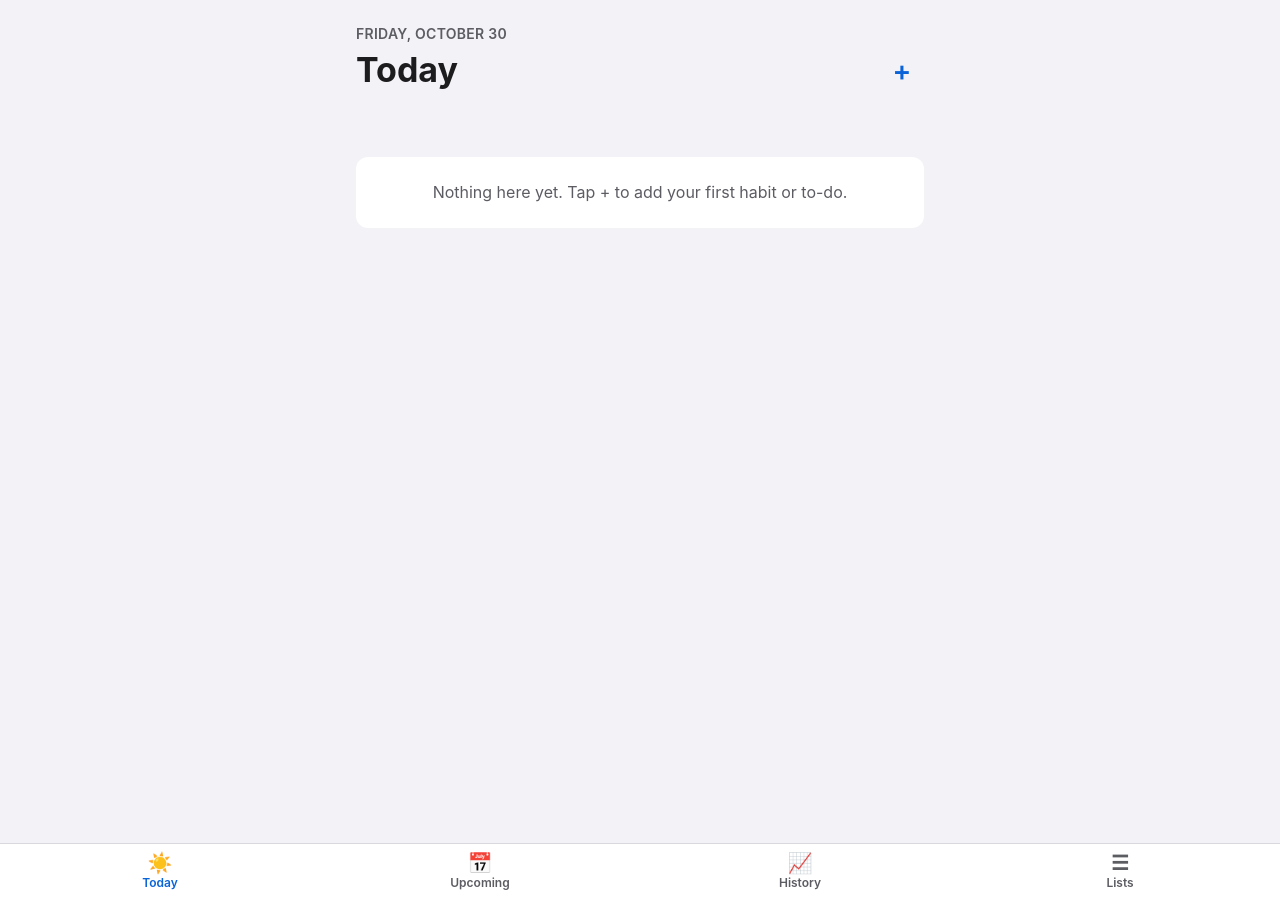
Test: adding and editing notes › adds a to-do with a note from the + sheet
expect the text "Nothing here yet. Tap + to add your first habit or to-do." is shown: met, box [433,182,847,202]
Click the button named "Add" at [902, 71], box [880,49,924,93]
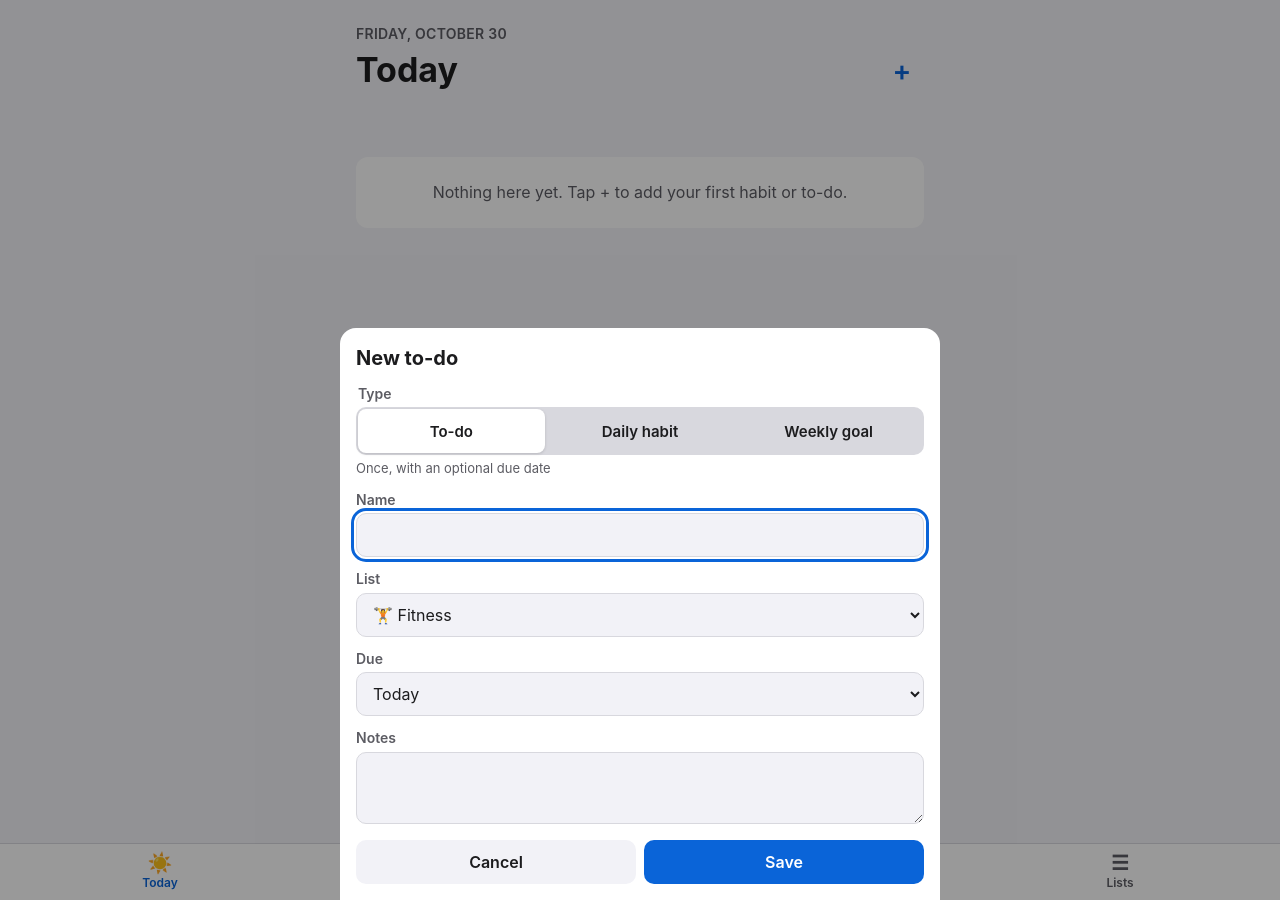
Type "Buy paint" into the field labelled "Name" at [640, 535], box [356,513,924,557]
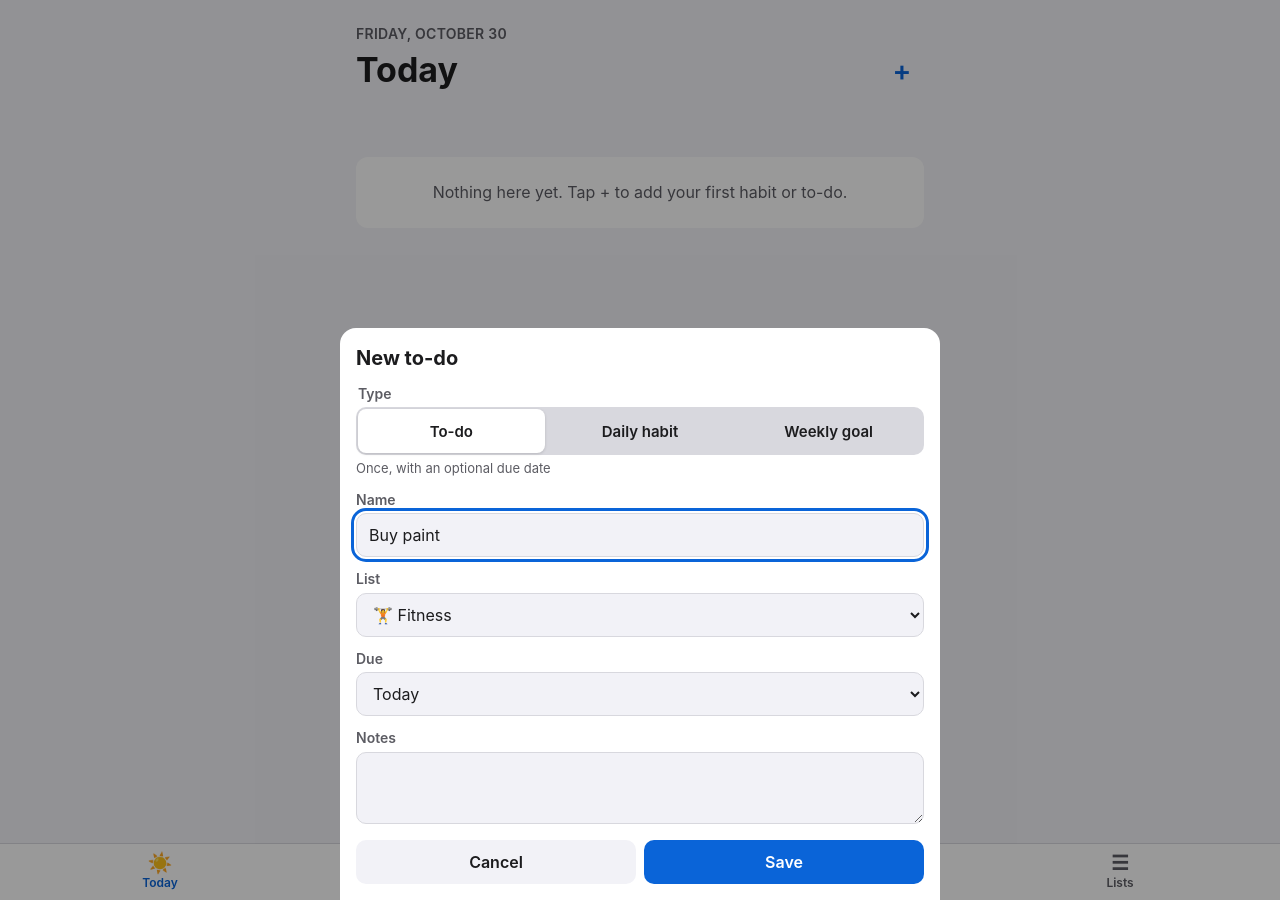
Type "the blue one by the door" into the text box labelled "Notes" at [640, 788], box [356,752,924,824]
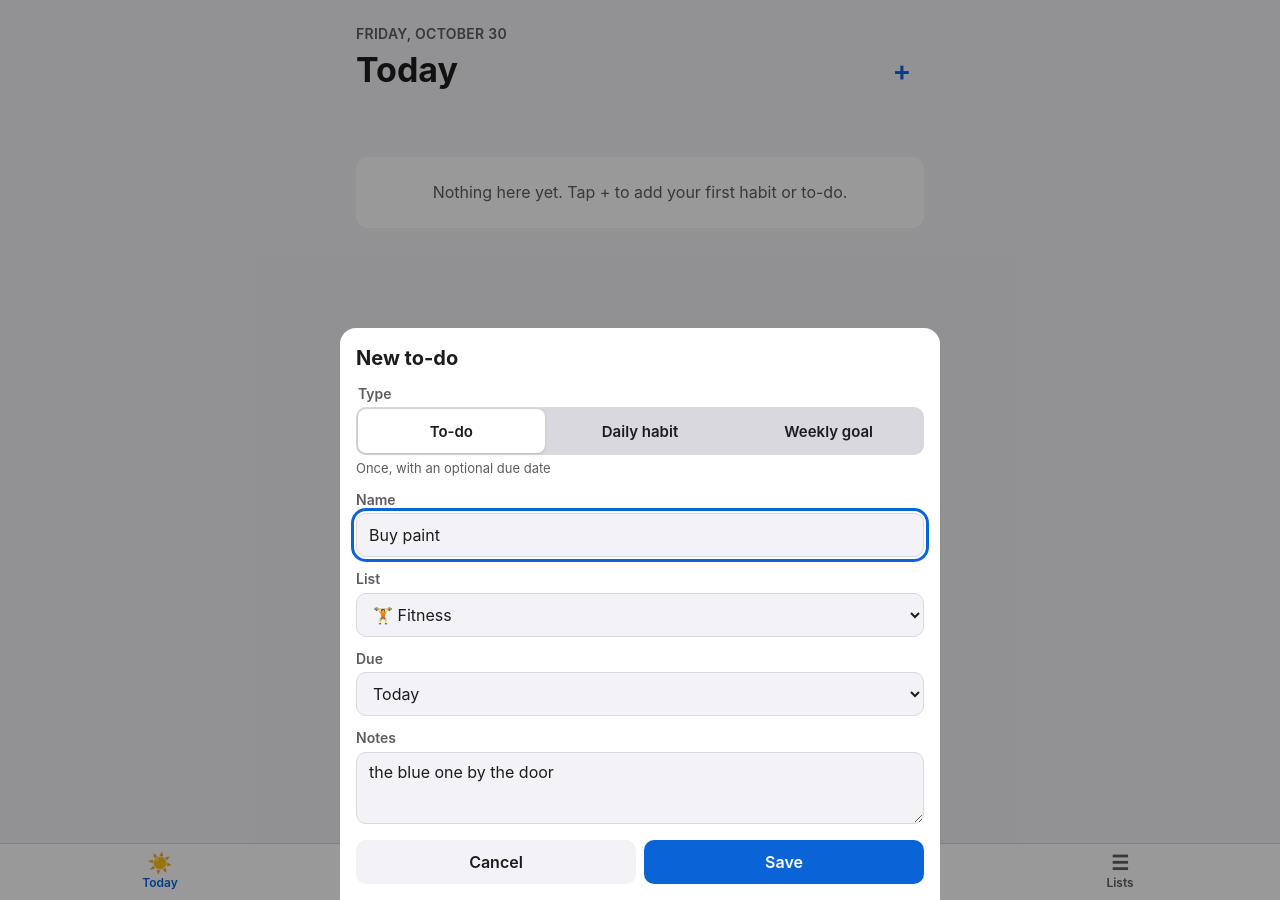
Click the button "Save" at [784, 862], box [644,840,924,884]
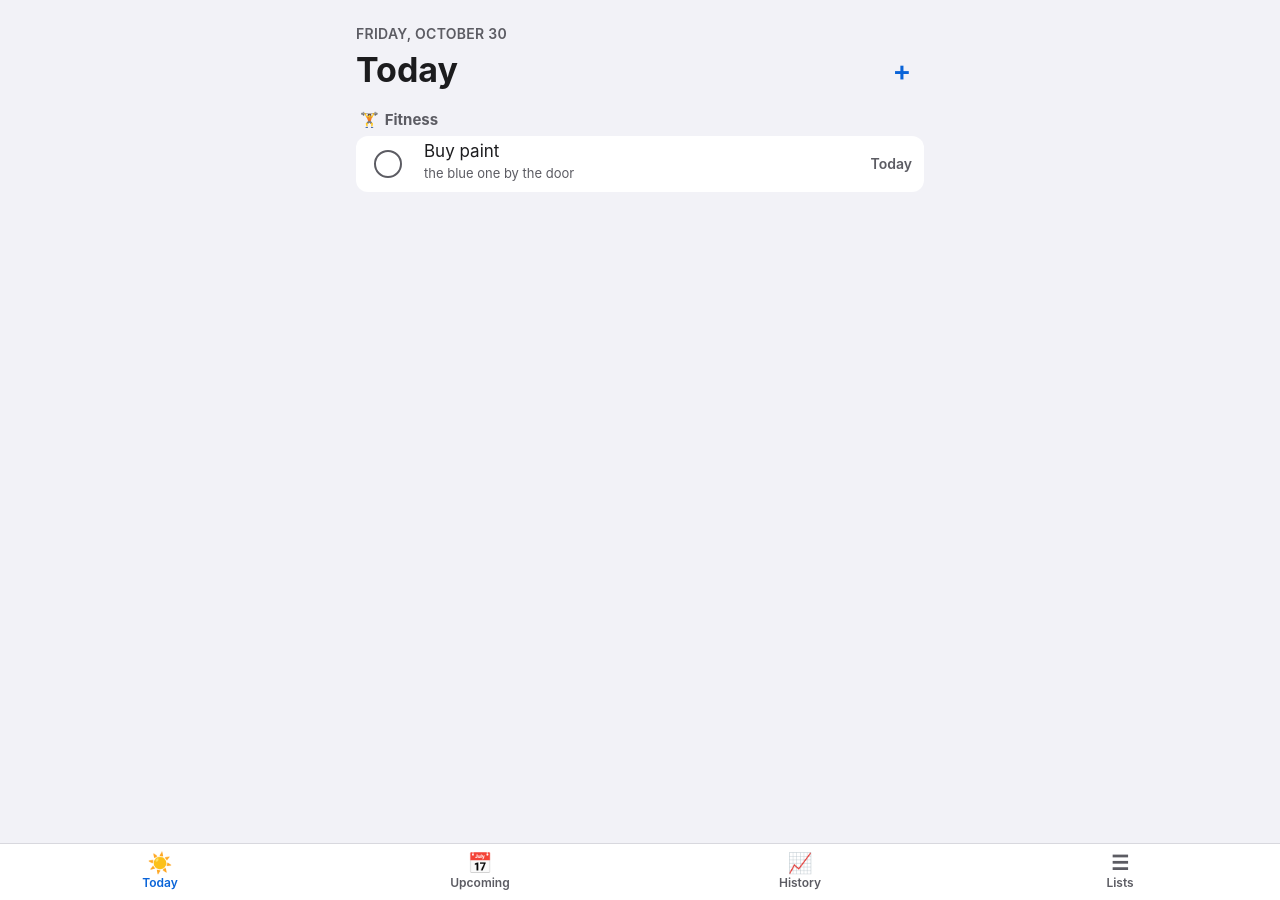
expect the text "the blue one by the door" is shown: met, box [424,165,574,181]
